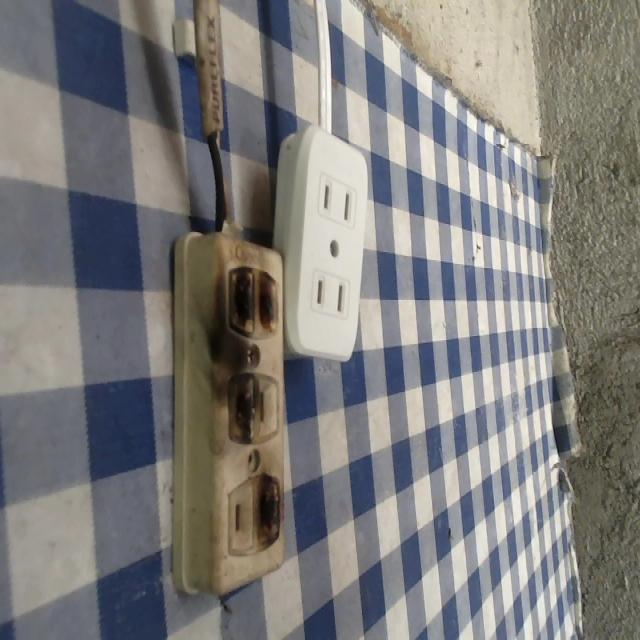-: (205, 250, 284, 354), (252, 468, 290, 568), (221, 362, 260, 454)
